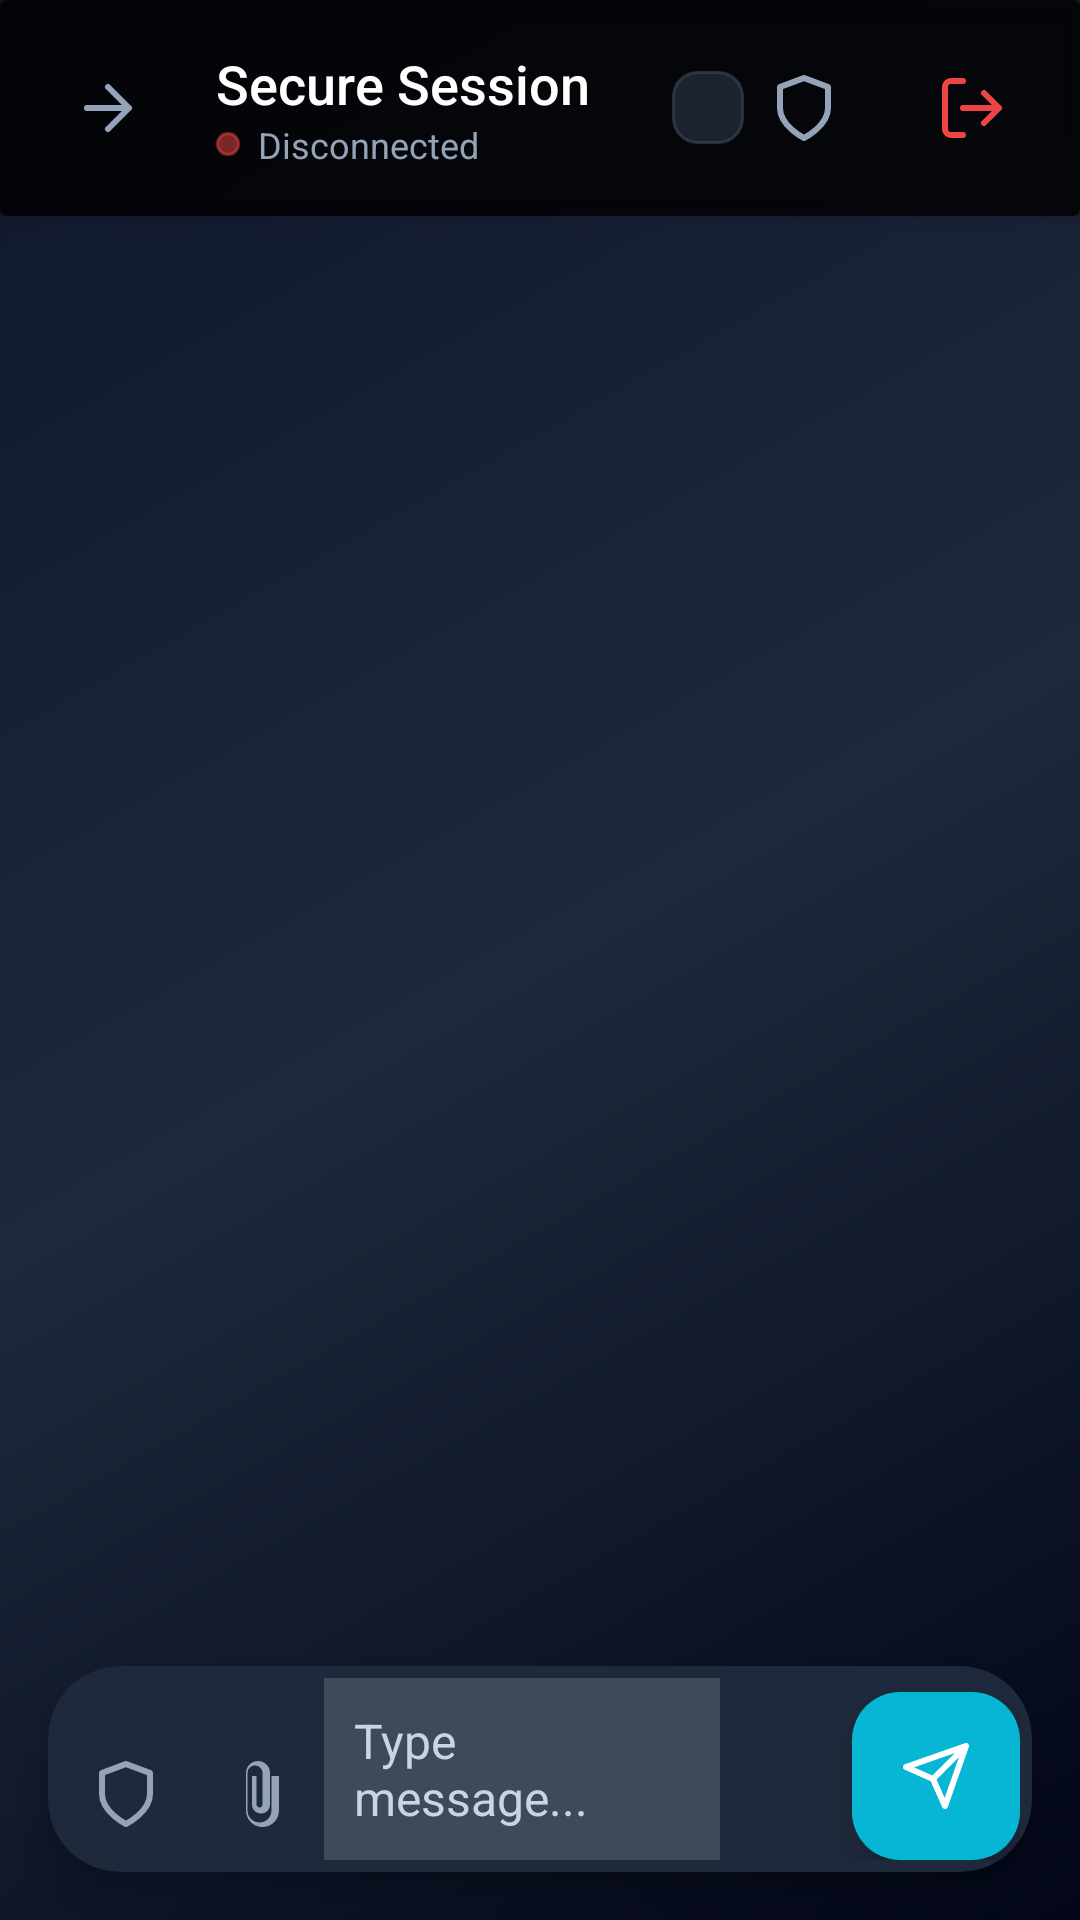

Where to tap for icons on this 1080*1920 app screen, as point (x, y):
attach: point (262, 1794)
send: point (936, 1776)
shield: point (804, 108), point (126, 1794)
